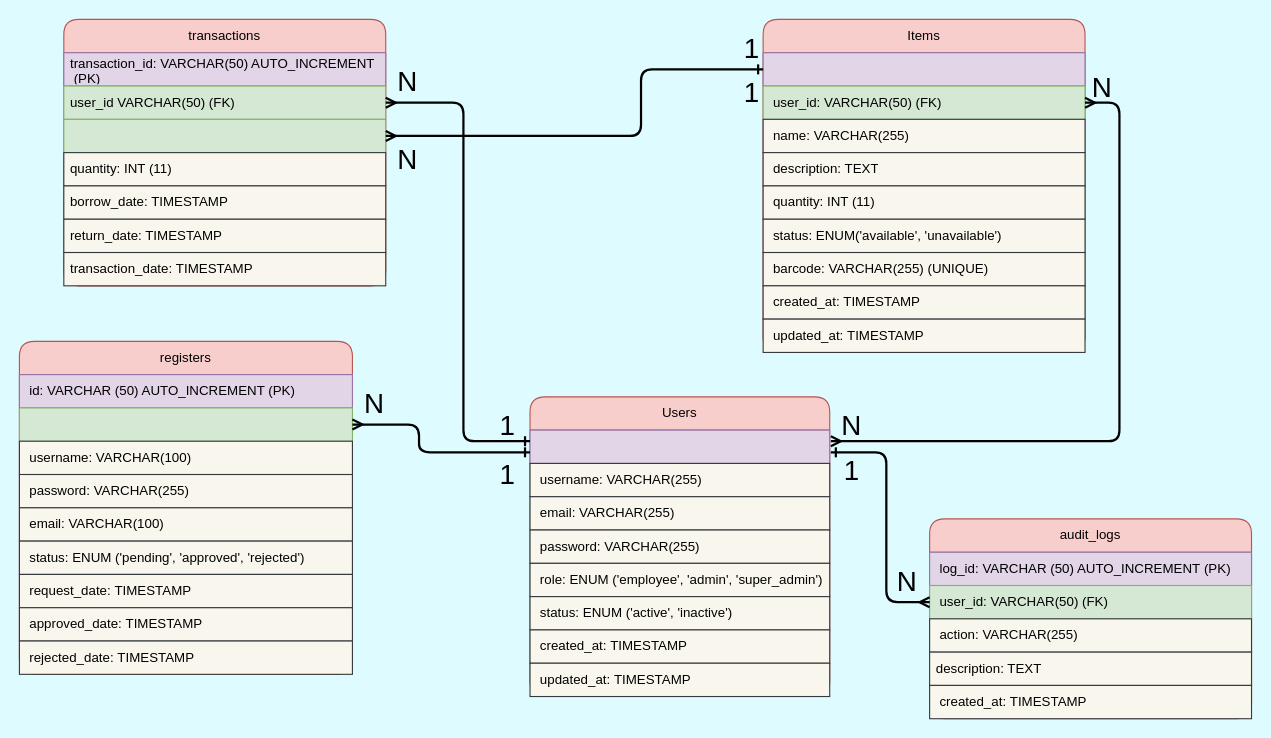
This 1271x738 diagram has some shape labels left out. Here are the shapes that lost their labels. From the top down, the centre of each, then its label:
the point at 923,69: item_id: VARCHAR (50) AUTO_INCREMENT (PK)
the point at 224,135: item_id: VARCHAR (50) (FK)
the point at 185,424: user_id: VAR CHAR (50) (FK)
the point at 679,446: user_id: VARCHAR(50) (PK)
